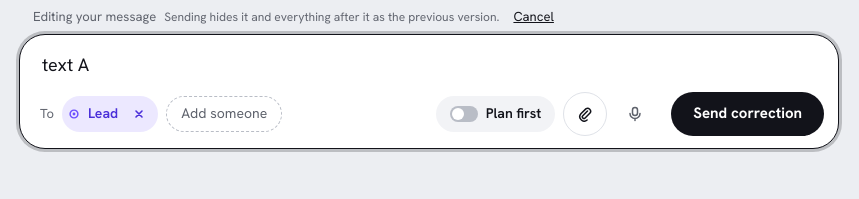
a correction that finishes while another message is being edited leaves that edit alone
This screenshot has width=859, height=199.
Click the button "Send correction" at (748, 114), box x1=671 y1=92 x2=824 y2=136
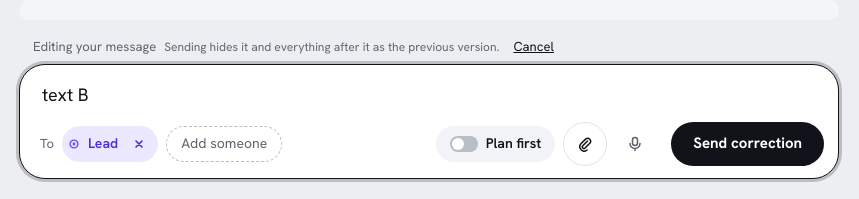
Expected: the text "Editing your message" is shown, x1=33 y1=37 x2=156 y2=56
Expected: the dropdown named "Message general" holds "text B", x1=40 y1=78 x2=824 y2=110
